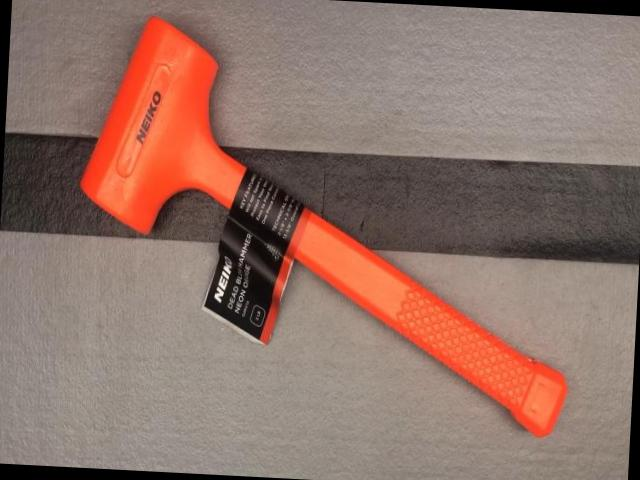hammer: (69, 15, 586, 439)
